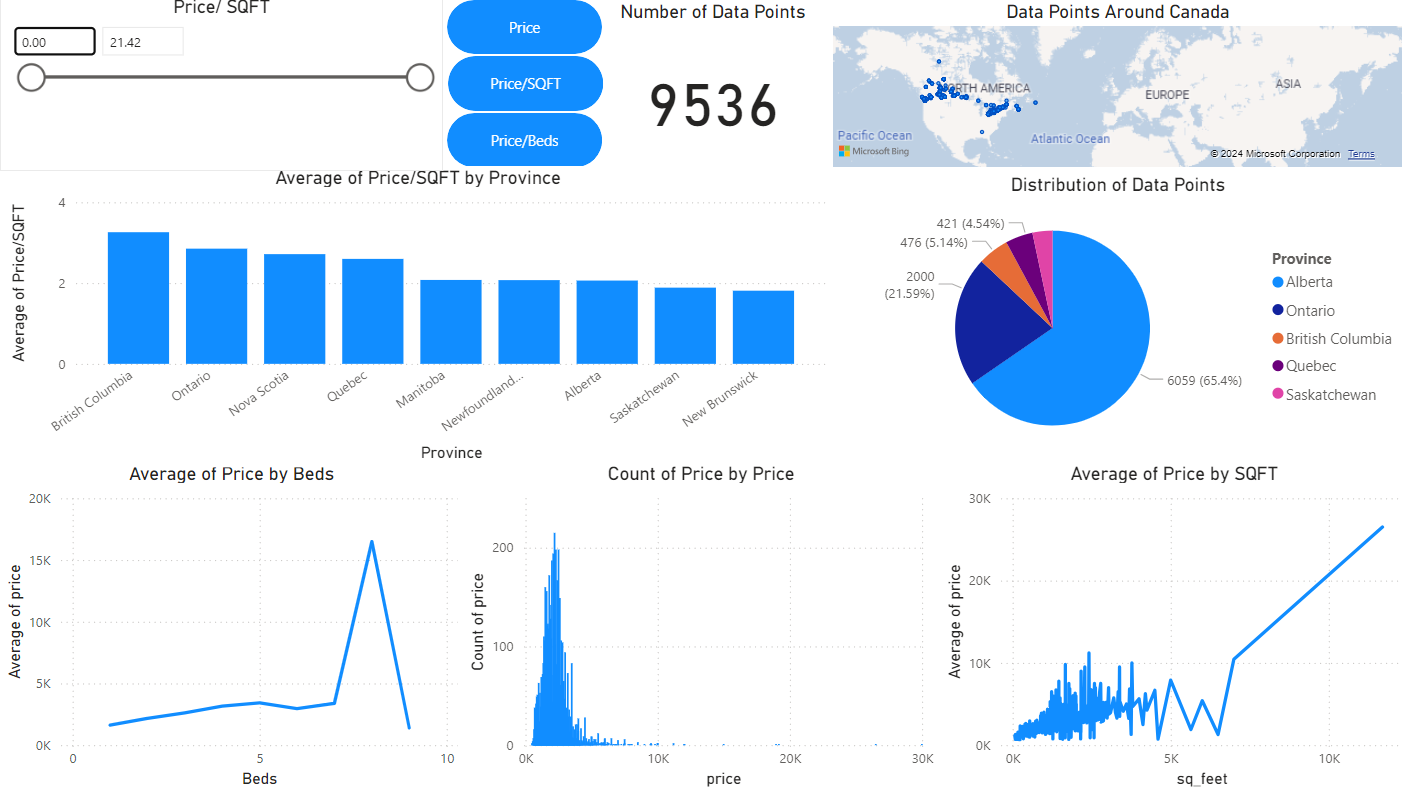

The page's visual inventory and layout, read from the dashboard file:
{"tool":"powerbi","page":{"name":"Page 1","canvas":[1280,720],"ordinal":0},"visuals":[{"type":"map","title":"Data Points Around Canada ","fields":{"Category":["rentfaster xlsx.Full Address"]},"box":[752.8,0,527.2,156.8],"z":0},{"type":"pieChart","title":"Distribution of Data Points","fields":{"Category":["rentfaster xlsx.province"],"Y":["CountNonNull(rentfaster xlsx.rentfaster_id)"]},"box":[752.7,157.2,527.3,263],"z":1000},{"type":"card","title":"Number of Data Points","fields":{"Values":["CountNonNull(rentfaster xlsx.rentfaster_id)"]},"box":[544,0,208.7,157.2],"z":2000},{"type":"shape","title":"Price","box":[406,0,141,49],"z":5000},{"type":"shape","title":"Price","box":[406.9,50.6,141.2,50],"z":6000},{"type":"shape","title":"Price","box":[406.6,102.5,141.2,49.5],"z":7000},{"type":"lineChart","title":"Average of Price by Beds ","fields":{"Y":["Avg(rentfaster xlsx.price)"],"Category":["rentfaster xlsx.Beds "]},"box":[0,419.8,421,300.4],"z":8000},{"type":"clusteredColumnChart","title":"Average of Price/SQFT by Province","fields":{"Category":["rentfaster xlsx.province"],"Y":["Avg(rentfaster xlsx.Price/SQFT)"]},"box":[3.3,151.3,752.8,273.9],"z":9000},{"type":"slicer","title":"Price/ SQFT","fields":{"Values":["rentfaster xlsx.Price/SQFT"]},"box":[0,-4.8,403,160.5],"z":12000},{"type":"lineChart","title":"Average of Price by SQFT","fields":{"Y":["Avg(rentfaster xlsx.price)"],"Category":["rentfaster xlsx.sq_feet"]},"box":[854.2,419.8,425.9,300.4],"z":13000},{"type":"clusteredColumnChart","title":"Count of Price by Price","fields":{"Y":["CountNonNull(rentfaster xlsx.price)"],"Category":["rentfaster xlsx.price"]},"box":[421,419.8,433.1,300.4],"z":14000}]}

Visuals, with their boxes in screenshot pixels (x1, y1, x2, y2), scaled from the page's 1280x720 canvas onto the 1408x791 screenshot:
"Data Points Around Canada " map: 828:0:1407:172
"Distribution of Data Points" pieChart: 828:173:1407:462
"Number of Data Points" card: 598:0:828:173
"Price" shape: 447:0:602:54
"Price" shape: 448:56:603:111
"Price" shape: 447:113:603:167
"Average of Price by Beds " lineChart: 0:461:463:790
"Average of Price/SQFT by Province" clusteredColumnChart: 4:166:832:467
"Price/ SQFT" slicer: 0:0:443:171
"Average of Price by SQFT" lineChart: 940:461:1407:790
"Count of Price by Price" clusteredColumnChart: 463:461:940:790
